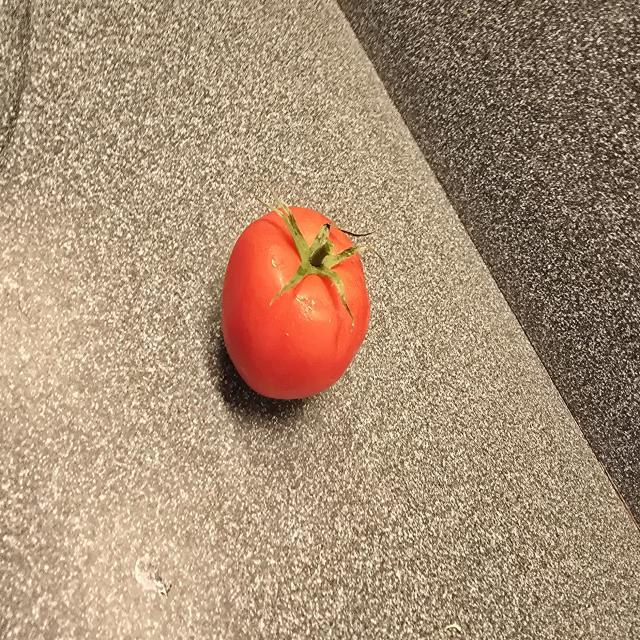Tomato: (217, 202, 374, 406)
